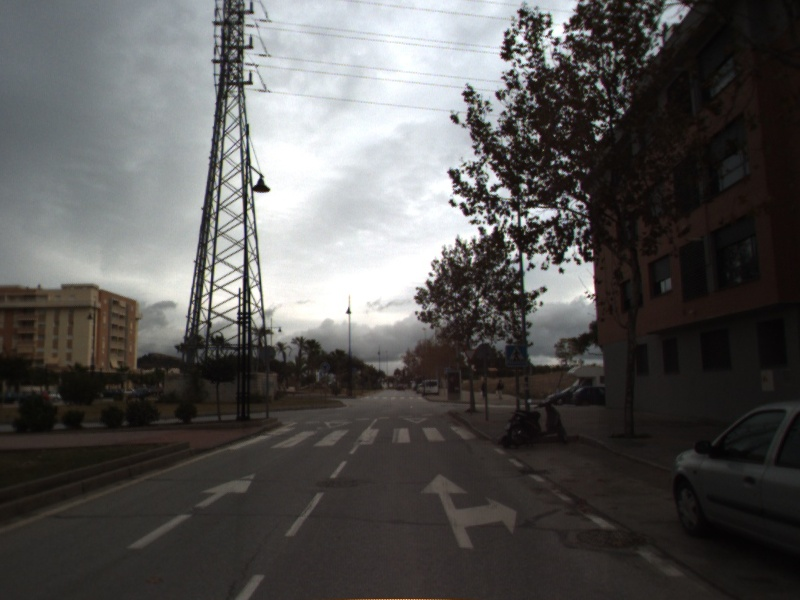STRAIGHT: (123, 470, 259, 551)
STRAIGHT_RIGHT: (417, 471, 519, 550)
